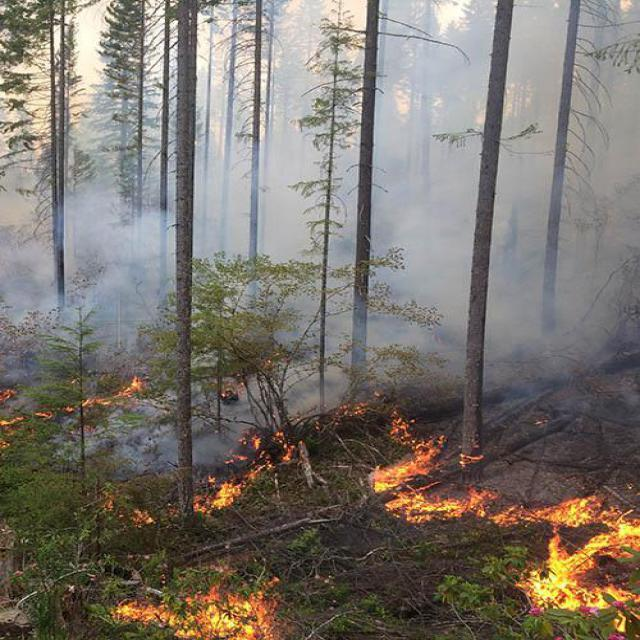Fire: (518, 487, 640, 616), (108, 559, 276, 640), (370, 400, 485, 518)
